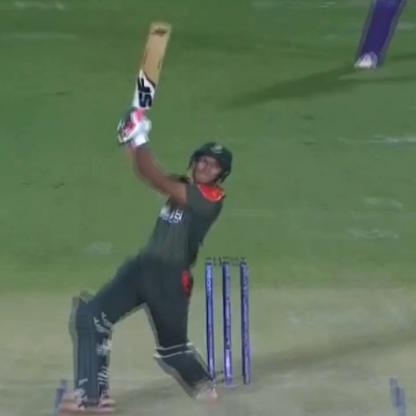bat: (120, 16, 172, 133)
